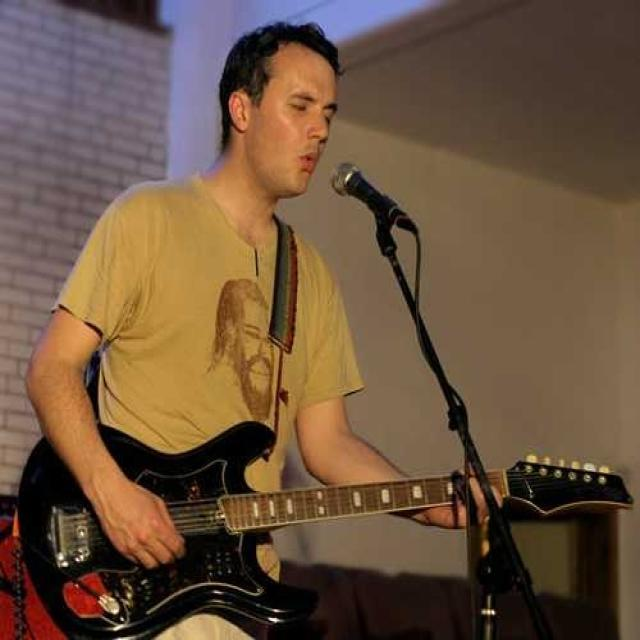microphone: (331, 159, 410, 238)
